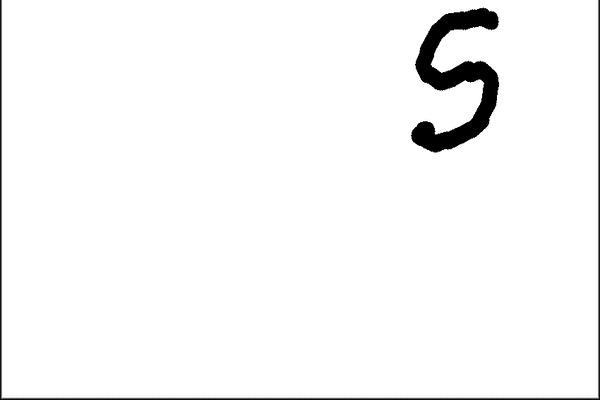S: (402, 2, 510, 157)
